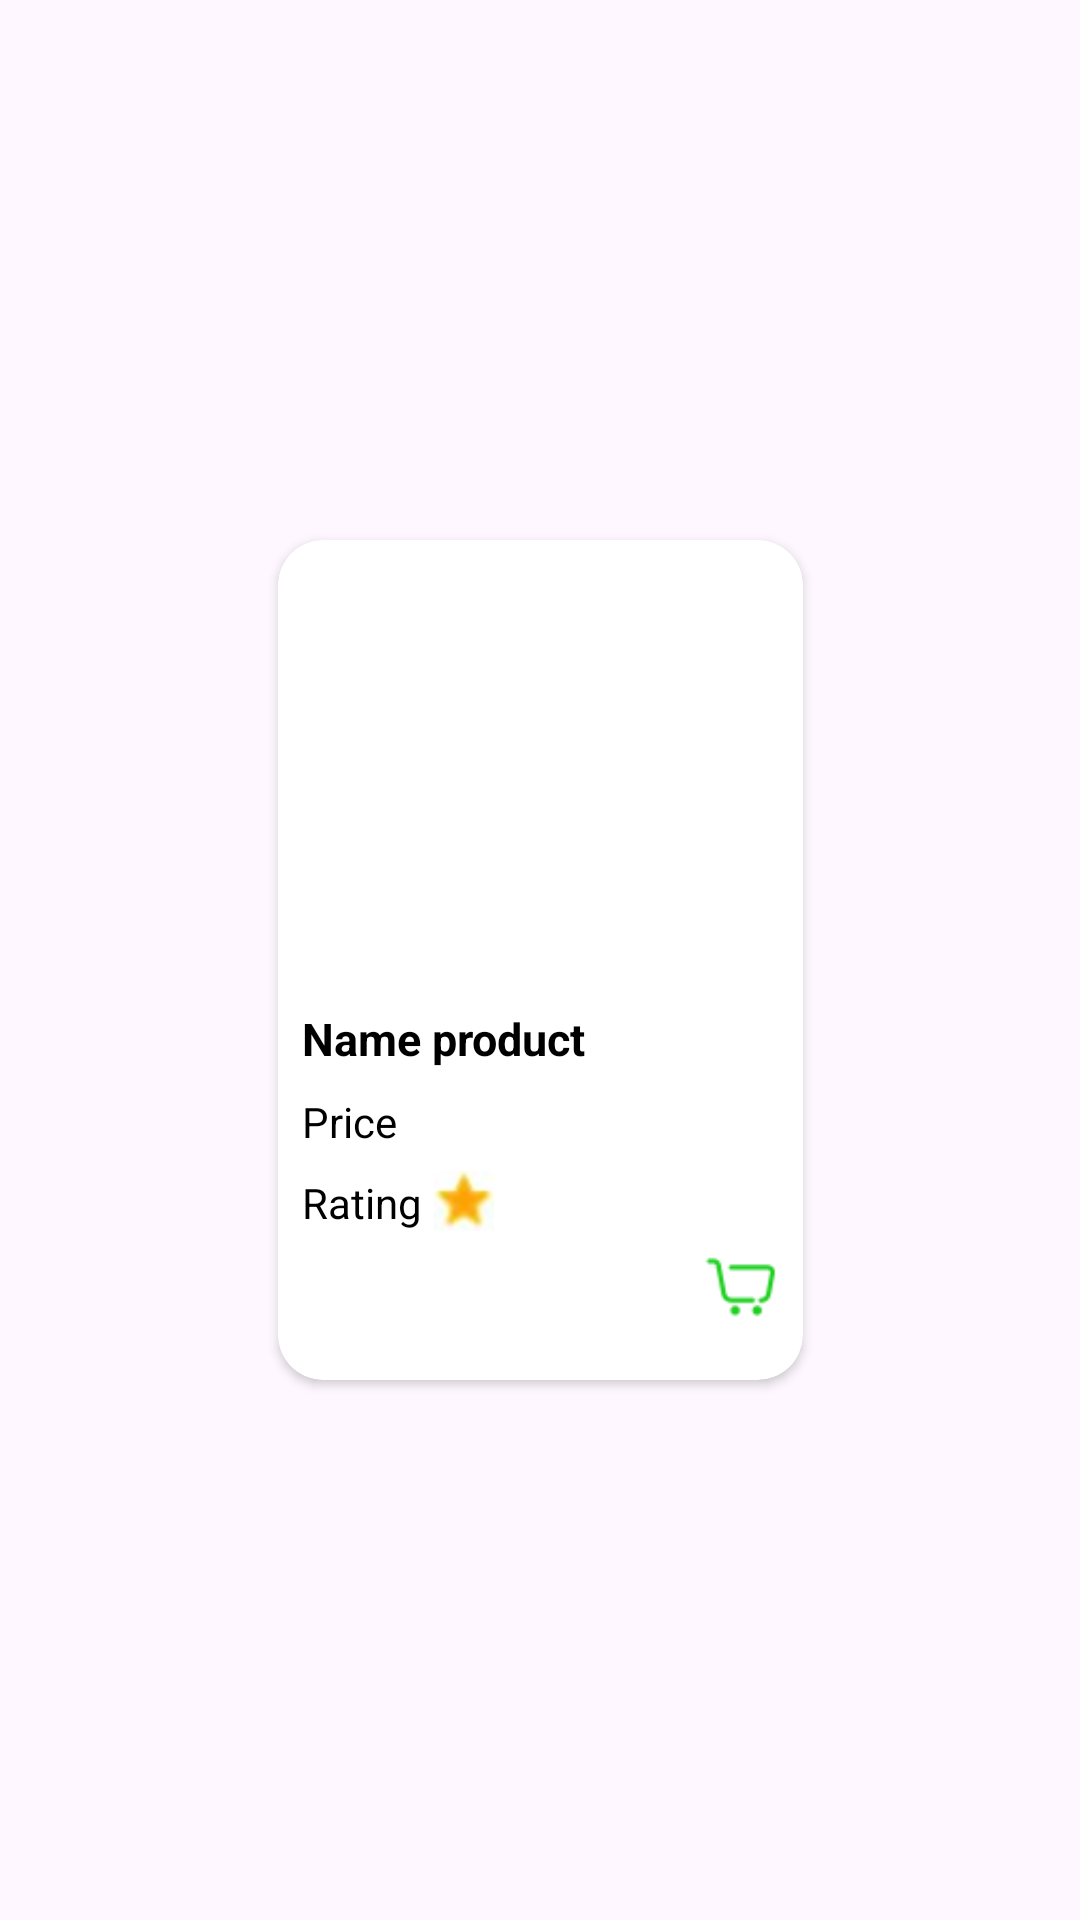

Named icons in this screenshot (1080×1920) and their bounding boxes, (x1, y1, x2, y2):
cart: (706, 1257, 776, 1317)
star full: (434, 1171, 494, 1227)
